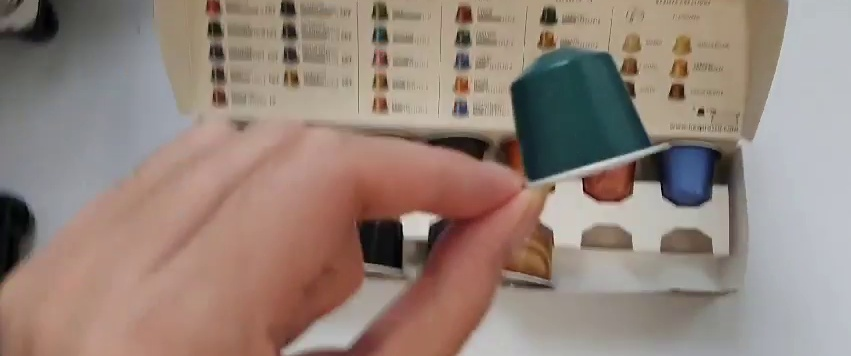capsule_13: (510, 45, 674, 200)
